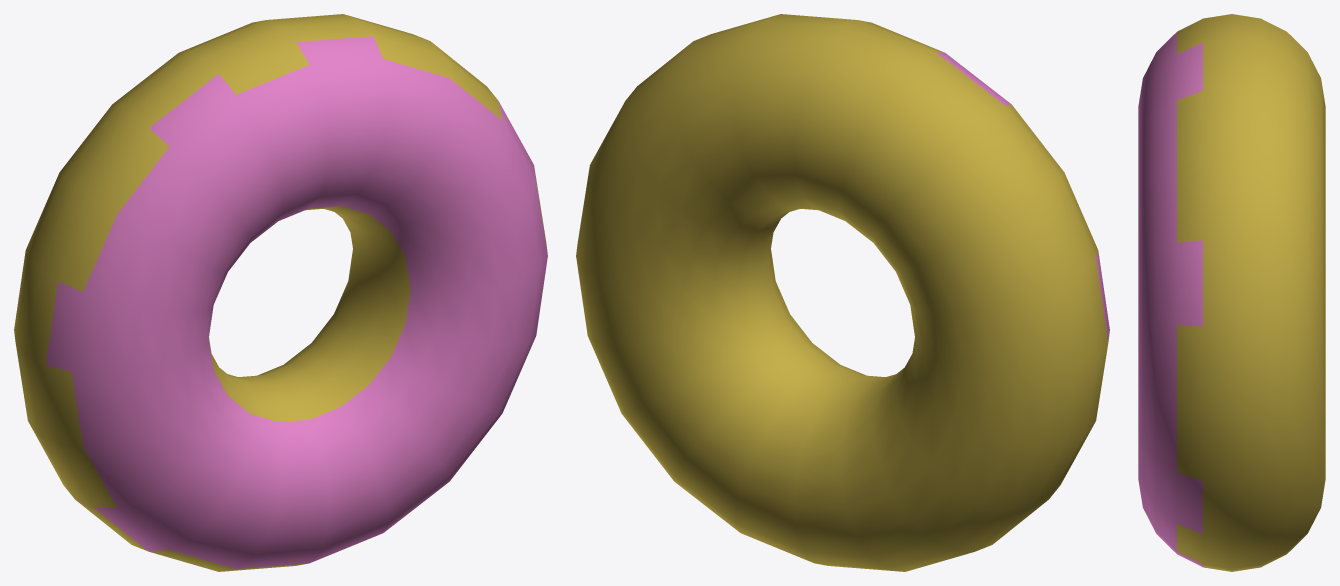
The model's file is donutModel.fbx.
The picture shows the model from 3 angles, left to right: view 1: azimuth 30°, elevation 25°; view 2: azimuth 150°, elevation 25°; view 3: azimuth 270°, elevation 25°; orthographic projection. The views are drawn at different scales.
Parts seen in each view (by area): view 1: pTorus1; view 2: pTorus1; view 3: pTorus1.
Boxes of the visible parts, bbox=[...] form: pTorus1: bbox=[14, 14, 547, 571]; pTorus1: bbox=[576, 14, 1109, 571]; pTorus1: bbox=[1138, 14, 1325, 571].
Bounding box in the file's own units: 45 × 45 × 15.
